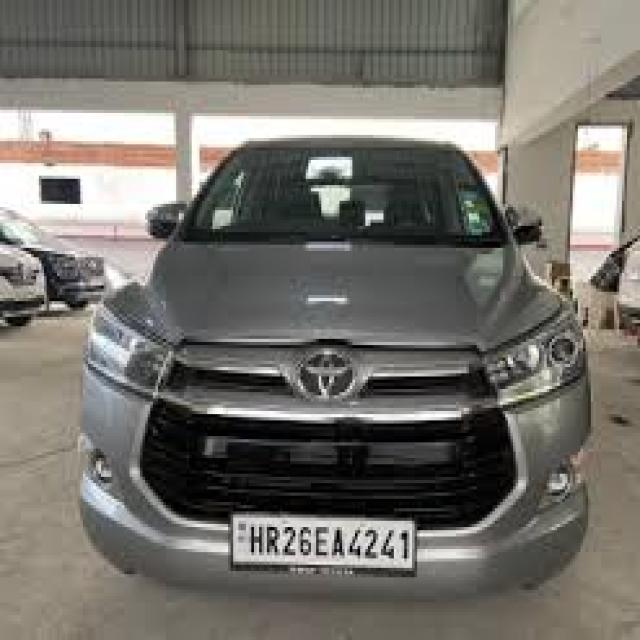light_vehicle: (79, 134, 592, 600)
